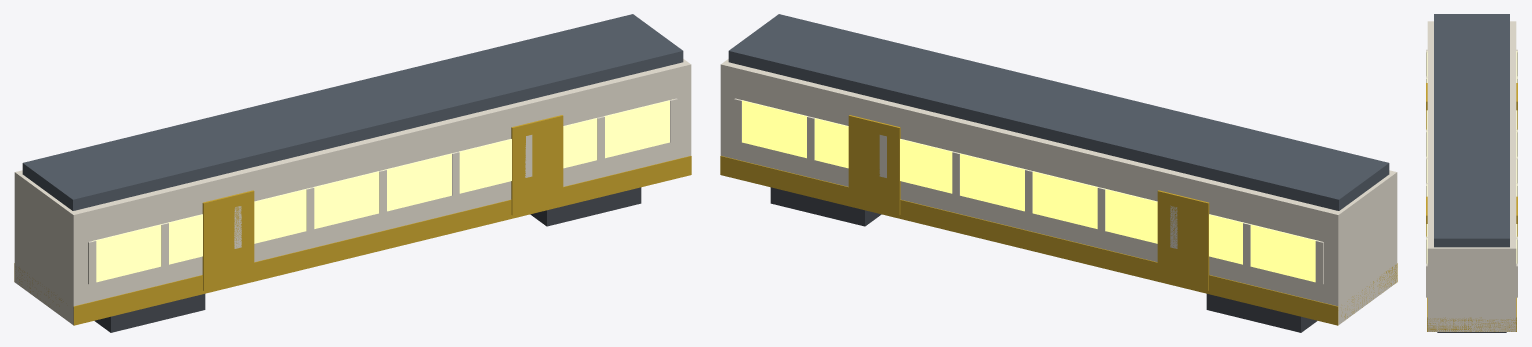
File: cp_train.glb
3 views of the same model, side by side, from view 1: azimuth 30°, elevation 25°; view 2: azimuth 150°, elevation 25°; view 3: azimuth 270°, elevation 25° (orthographic). The views are drawn at different scales.
Parts seen in each view (by area): view 1: city_cp_train; view 2: city_cp_train; view 3: city_cp_train.
Boxes of the visible parts, x1,y1,x2,y2 form: city_cp_train: (14, 14, 691, 332); city_cp_train: (720, 14, 1397, 332); city_cp_train: (1426, 14, 1517, 332).
Size of the model in its own units: 17 by 3.8 by 2.9.
Materials: 2 (2 with a texture image).
